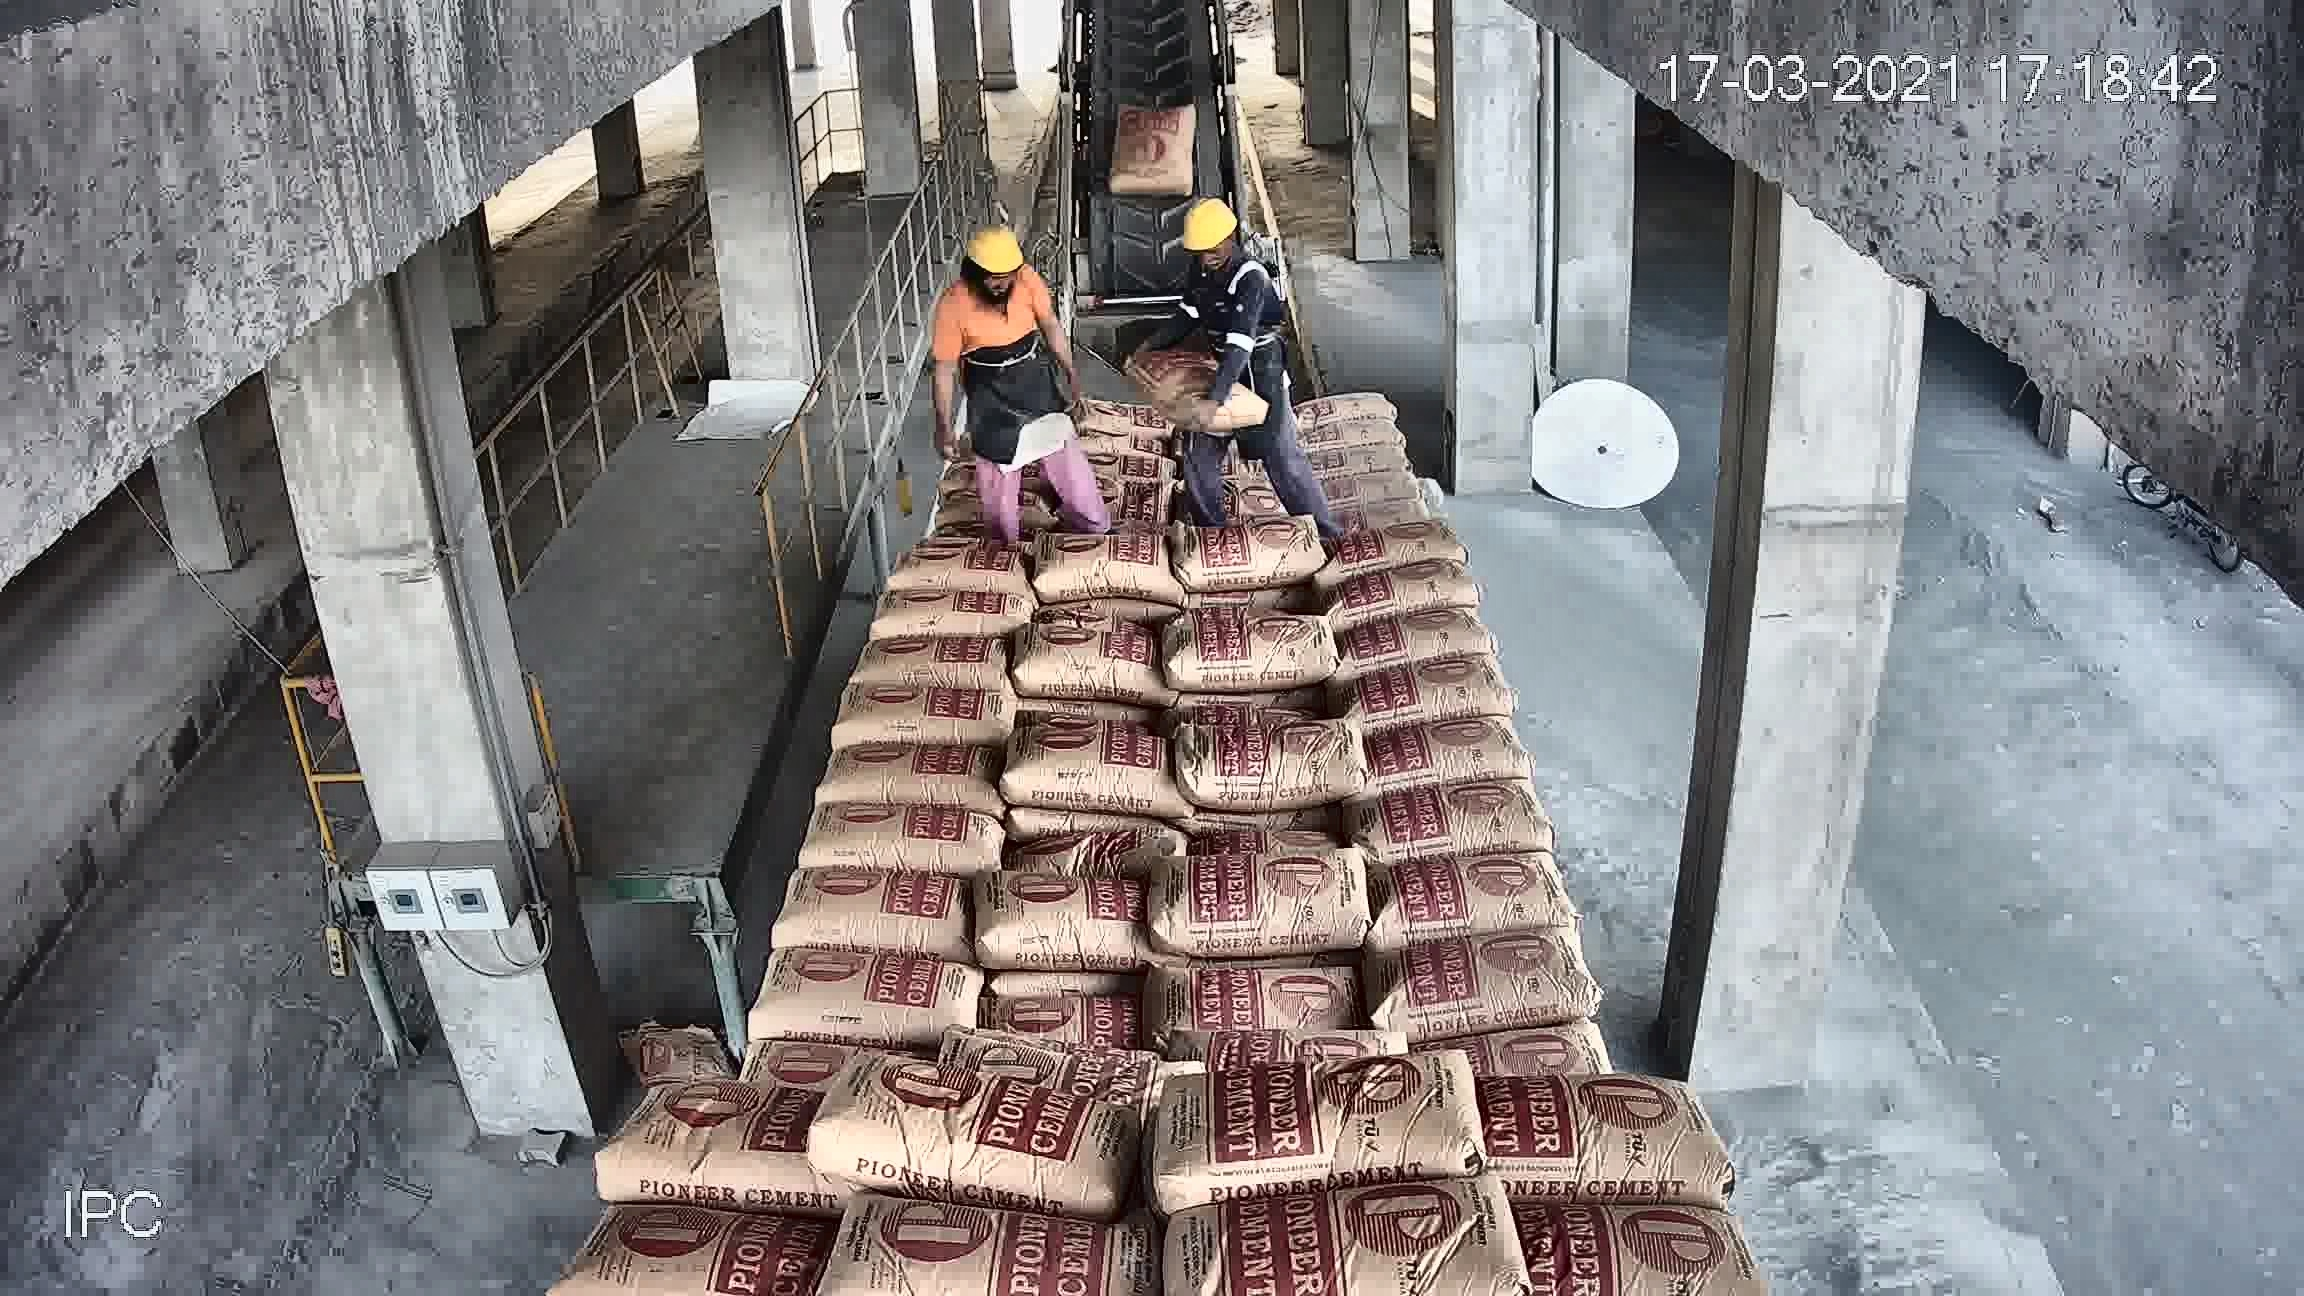bag: (1127, 339, 1233, 429), (1105, 106, 1203, 199)
bag_h: (1143, 1041, 1494, 1192), (812, 1054, 1135, 1207), (590, 1074, 834, 1201), (742, 929, 970, 1059), (1473, 1079, 1720, 1195), (1388, 926, 1605, 1044), (1147, 839, 1380, 946), (911, 1022, 1206, 1100), (1370, 837, 1573, 949), (766, 850, 968, 956), (1374, 760, 1567, 851), (1141, 949, 1374, 1025), (1180, 714, 1370, 805), (1190, 1002, 1432, 1073), (805, 747, 1006, 828), (782, 801, 1013, 869), (1003, 729, 1177, 818), (1166, 604, 1339, 692), (980, 881, 1146, 972), (1337, 650, 1529, 726), (826, 671, 1021, 745), (1351, 718, 1535, 794), (1161, 510, 1321, 597), (1321, 590, 1510, 661), (1008, 620, 1161, 707), (1426, 1014, 1622, 1079), (1332, 548, 1503, 619), (1003, 813, 1177, 881), (976, 978, 1144, 1043), (872, 578, 1043, 641), (848, 641, 1011, 698), (880, 536, 1033, 590), (1332, 514, 1473, 573), (1032, 536, 1165, 593), (1315, 484, 1446, 535), (1294, 405, 1413, 453), (1298, 434, 1423, 476), (1310, 464, 1426, 502), (1301, 381, 1399, 423), (1086, 446, 1184, 484)
belt: (1067, 14, 1241, 340)
